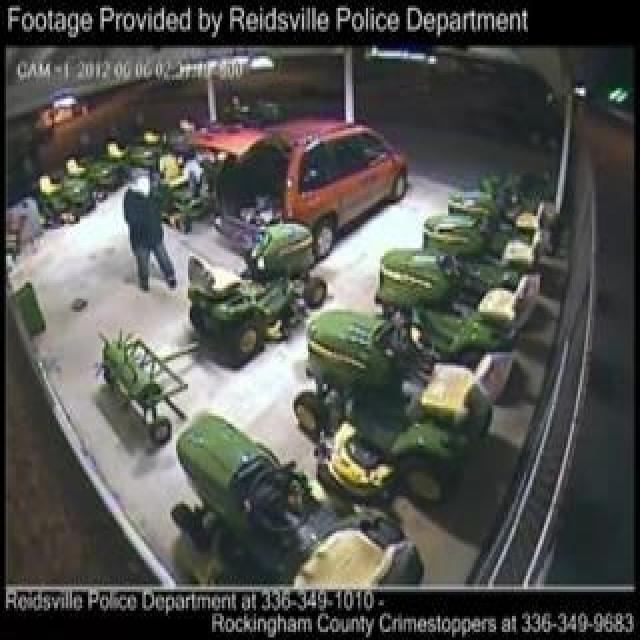thief: (110, 156, 190, 290)
